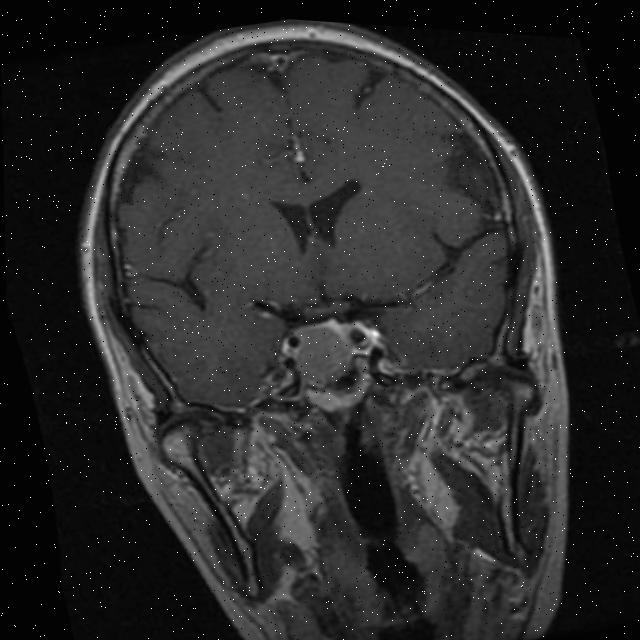Pituitary: (283, 310, 361, 395)
